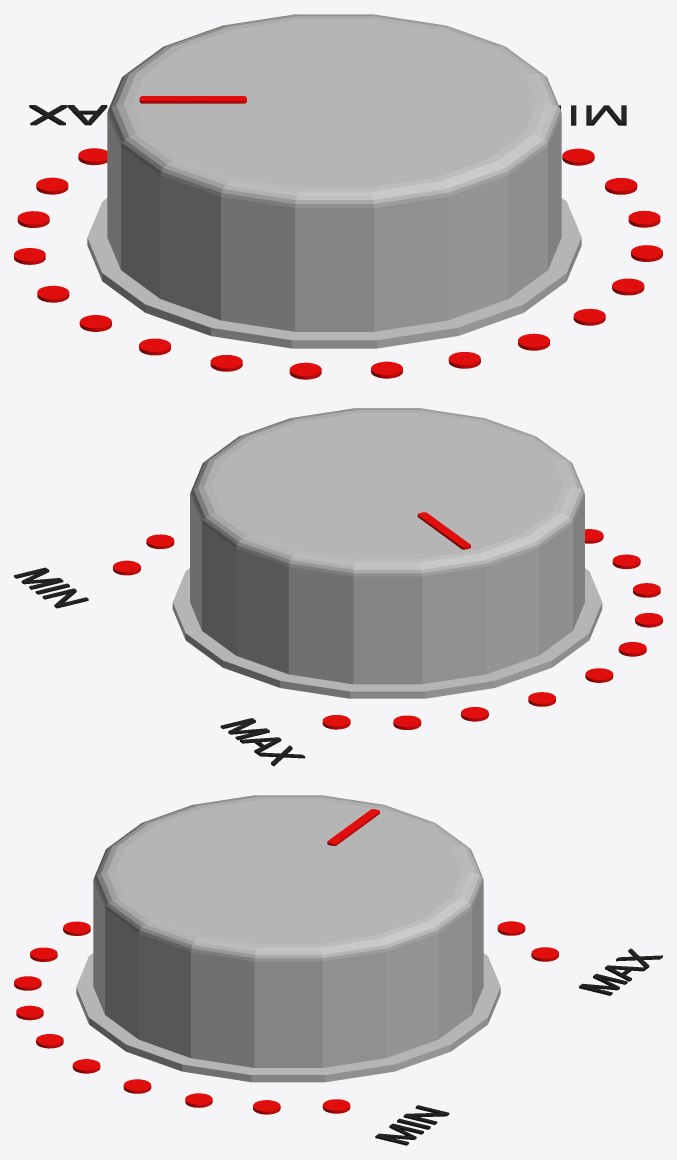
File: a9a2d904-fb85-4573-84d6-48d22cab6613.glb
3 views of the same model, one above another, from view 1: azimuth 30°, elevation 25°; view 2: azimuth 150°, elevation 25°; view 3: azimuth 270°, elevation 25° (orthographic). The views are drawn at different scales.
Parts seen in each view (by area): view 1: Cylinder029, Box003, Text003, Text004; view 2: Cylinder029, Text003, Text004, Box003; view 3: Cylinder029, Text003, Text004, Box003.
Boxes of the visible parts, <box> form: Cylinder029: <box>87,14,581,348</box>; Box003: <box>139,96,246,103</box>; Text003: <box>29,105,107,125</box>; Text004: <box>559,105,626,125</box>; Cylinder029: <box>172,408,602,698</box>; Text003: <box>220,718,305,766</box>; Text004: <box>14,567,88,608</box>; Box003: <box>417,512,470,549</box>; Cylinder029: <box>76,795,500,1082</box>; Text003: <box>579,948,662,995</box>; Text004: <box>375,1105,449,1145</box>; Box003: <box>327,809,379,845</box>.
Size of what is drawn, in the model's own units: 297721 by 64755 by 305654.
